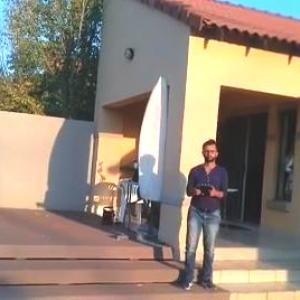follow: (176, 133, 229, 293)
